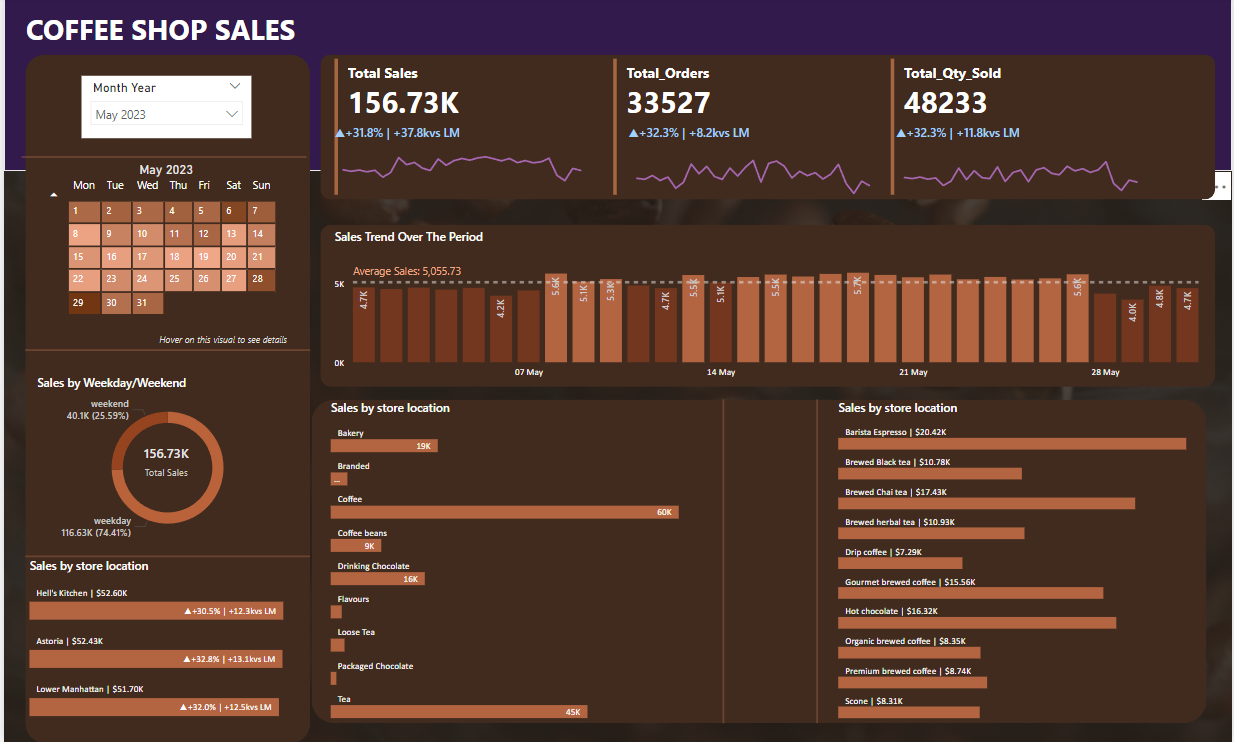

The dashboard page shown, as its layout file describes it:
{"tool":"powerbi","page":{"name":"Page 1","canvas":[1400,850],"ordinal":0},"visuals":[{"type":"shape","box":[350.4,458.6,1019.8,368.9],"z":0},{"type":"shape","box":[0,0,1400.1,198],"z":1000},{"type":"shape","box":[24.2,65.5,324.7,784.8],"z":2000},{"type":"shape","box":[360.3,65.5,1019.8,165.2],"z":3000},{"type":"textbox","box":[19.9,10,329,55.5],"z":4000},{"type":"cardVisual","fields":{"Data":["Transactions.Total Sales"]},"box":[371.7,65.5,300.5,165.2],"z":5000},{"type":"slicer","fields":{"Values":["Date Table.Month Year"]},"box":[88.3,89.7,193.7,71.2],"z":6000},{"type":"lineChart","fields":{"Category":["Date Table.Date.Variation.Date Hierarchy.Year","Date Table.Date.Variation.Date Hierarchy.Quarter","Date Table.Date.Variation.Date Hierarchy.Month","Date Table.Date.Variation.Date Hierarchy.Day"],"Y":["Transactions.Total Sales"]},"box":[371.7,145.3,300.5,85.5],"z":7000},{"type":"cardVisual","fields":{"Data":["Transactions.Total_Orders"]},"box":[688.6,65.5,300.5,165.2],"z":8000},{"type":"lineChart","fields":{"Category":["Date Table.Date.Variation.Date Hierarchy.Year","Date Table.Date.Variation.Date Hierarchy.Quarter","Date Table.Date.Variation.Date Hierarchy.Month","Date Table.Date.Variation.Date Hierarchy.Day"],"Y":["Transactions.Total_Orders"]},"box":[706.4,145.3,294.8,85.5],"z":9000},{"type":"cardVisual","fields":{"Data":["Transactions.Total_Qty_Sold"]},"box":[1005.5,65.5,300.5,165.2],"z":10000},{"type":"lineChart","fields":{"Category":["Date Table.Date.Variation.Date Hierarchy.Year","Date Table.Date.Variation.Date Hierarchy.Quarter","Date Table.Date.Variation.Date Hierarchy.Month","Date Table.Date.Variation.Date Hierarchy.Day"],"Y":["Transactions.Total_Qty_Sold"]},"box":[1011.2,145.3,294.8,85.5],"z":11000},{"type":"pivotTable","fields":{"Rows":["Date Table.Week NUM"],"Columns":["Date Table.Day Name"],"Values":["Min(Date Table.Day Num)"]},"box":[42.7,198,329,205.1],"z":12000},{"type":"card","fields":{"Values":["Min(Date Table.Month Year)"]},"box":[116.8,173.8,136.7,48.4],"z":13000},{"type":"card","fields":{"Values":["Transactions.Foot Note"]},"box":[151,371.7,198,42.7],"z":14000},{"type":"shape","box":[24.2,374.6,324.7,55.5],"z":15000},{"type":"shape","box":[19.9,160.9,324.7,42.7],"z":16000},{"type":"donutChart","title":"Sales by Weekday/Weekend","fields":{"Category":["Date Table.Weekday/Weekend"],"Y":["Transactions.Total Sales"]},"box":[32.8,430.1,307.6,195.1],"z":17000},{"type":"card","fields":{"Values":["Transactions.Total Sales"]},"box":[126.8,497.1,116.8,62.7],"z":18000},{"type":"shape","box":[24.2,609.6,324.7,55.5],"z":19000},{"type":"clusteredBarChart","title":"Sales by store location","fields":{"Category":["Transactions.store_location"],"Y":["Transactions.Placeholder","Transactions.Total Sales"]},"box":[24.2,638.1,324.7,189.4],"z":20000},{"type":"shape","box":[360.3,259.2,1019.8,185.2],"z":21000},{"type":"columnChart","title":"Sales Trend Over The Period","fields":{"Category":["Transactions.transaction_date"],"Y":["Transactions.Total Sales"]},"box":[371.7,263.5,998.4,180.9],"z":22000},{"type":"clusteredBarChart","title":"Sales by store location","fields":{"Category":["Transactions.product_category"],"Y":["Transactions.Placeholder","Transactions.Total Sales"]},"box":[367.5,458.6,433,368.9],"z":23000},{"type":"shape","box":[800.4,458.6,38.5,368.9],"z":24000},{"type":"clusteredBarChart","title":"Sales by store location","fields":{"Y":["Transactions.Placeholder","Transactions.Total Sales"],"Category":["Transactions.product_type"]},"box":[945.7,458.6,434.4,368.9],"z":25000},{"type":"shape","box":[907.3,458.6,38.5,368.9],"z":25001}]}

Visuals, with their boxes in screenshot pixels (x1, y1, x2, y2), scaled from the page's 1400x850 canvas onto the 1234x742 screenshot:
shape: region(309, 400, 1208, 722)
shape: region(0, 0, 1233, 173)
shape: region(21, 57, 308, 741)
shape: region(318, 57, 1216, 201)
textbox: region(18, 9, 308, 57)
cardVisual - Transactions.Total Sales: region(328, 57, 592, 201)
slicer - Date Table.Month Year: region(78, 78, 249, 140)
lineChart - Date Table.Date.Variation.Date Hierarchy.Year x Date Table.Date.Variation.Date Hierarchy.Quarter: region(328, 127, 592, 201)
cardVisual - Transactions.Total_Orders: region(607, 57, 872, 201)
lineChart - Date Table.Date.Variation.Date Hierarchy.Year x Date Table.Date.Variation.Date Hierarchy.Quarter: region(623, 127, 882, 201)
cardVisual - Transactions.Total_Qty_Sold: region(886, 57, 1151, 201)
lineChart - Date Table.Date.Variation.Date Hierarchy.Year x Date Table.Date.Variation.Date Hierarchy.Quarter: region(891, 127, 1151, 201)
pivotTable - Date Table.Week NUM x Date Table.Day Name: region(38, 173, 328, 352)
card - Min(Date Table.Month Year): region(103, 152, 223, 194)
card - Transactions.Foot Note: region(133, 324, 308, 362)
shape: region(21, 327, 308, 375)
shape: region(18, 140, 304, 178)
"Sales by Weekday/Weekend" donutChart: region(29, 375, 300, 546)
card - Transactions.Total Sales: region(112, 434, 215, 489)
shape: region(21, 532, 308, 581)
"Sales by store location" clusteredBarChart: region(21, 557, 308, 722)
shape: region(318, 226, 1216, 388)
"Sales Trend Over The Period" columnChart: region(328, 230, 1208, 388)
"Sales by store location" clusteredBarChart: region(324, 400, 706, 722)
shape: region(705, 400, 739, 722)
"Sales by store location" clusteredBarChart: region(834, 400, 1216, 722)
shape: region(800, 400, 834, 722)
